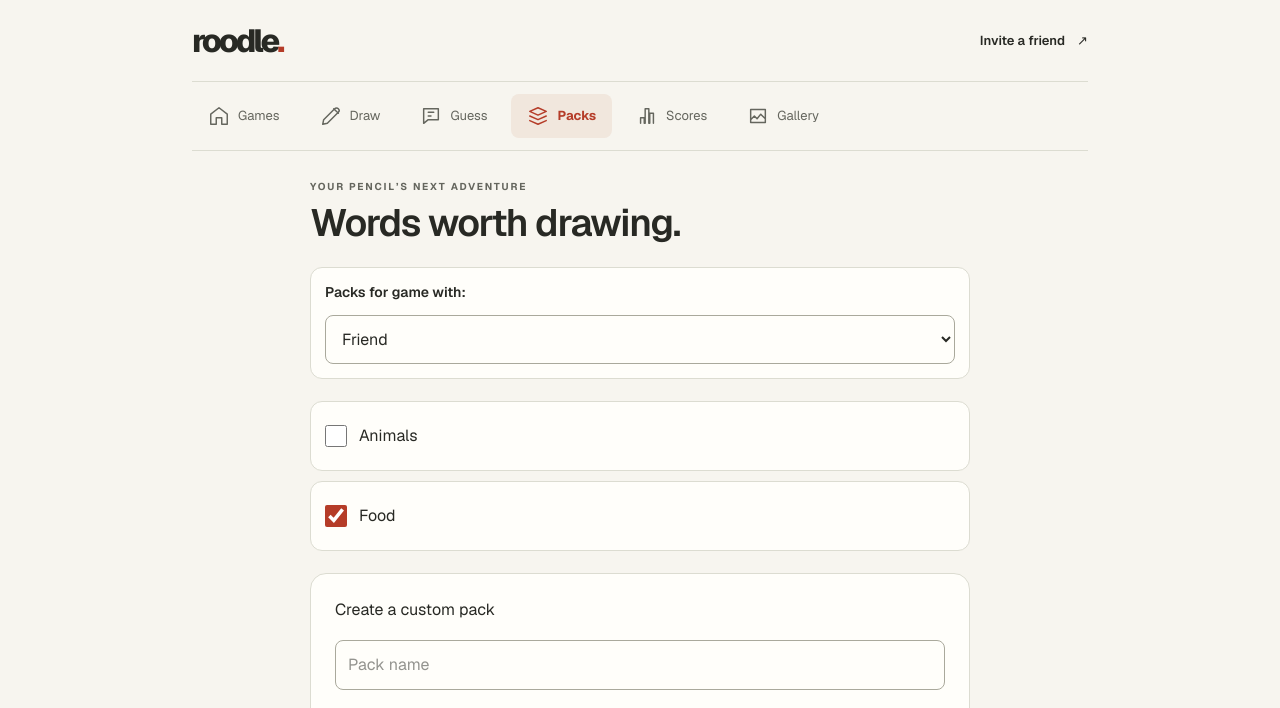
Test: PacksPage (WORD-06) › shows an error and retry when a toggle fails
Click the checkbox labelled "Animals": {"x": 336, "y": 436} [325,424,347,446]
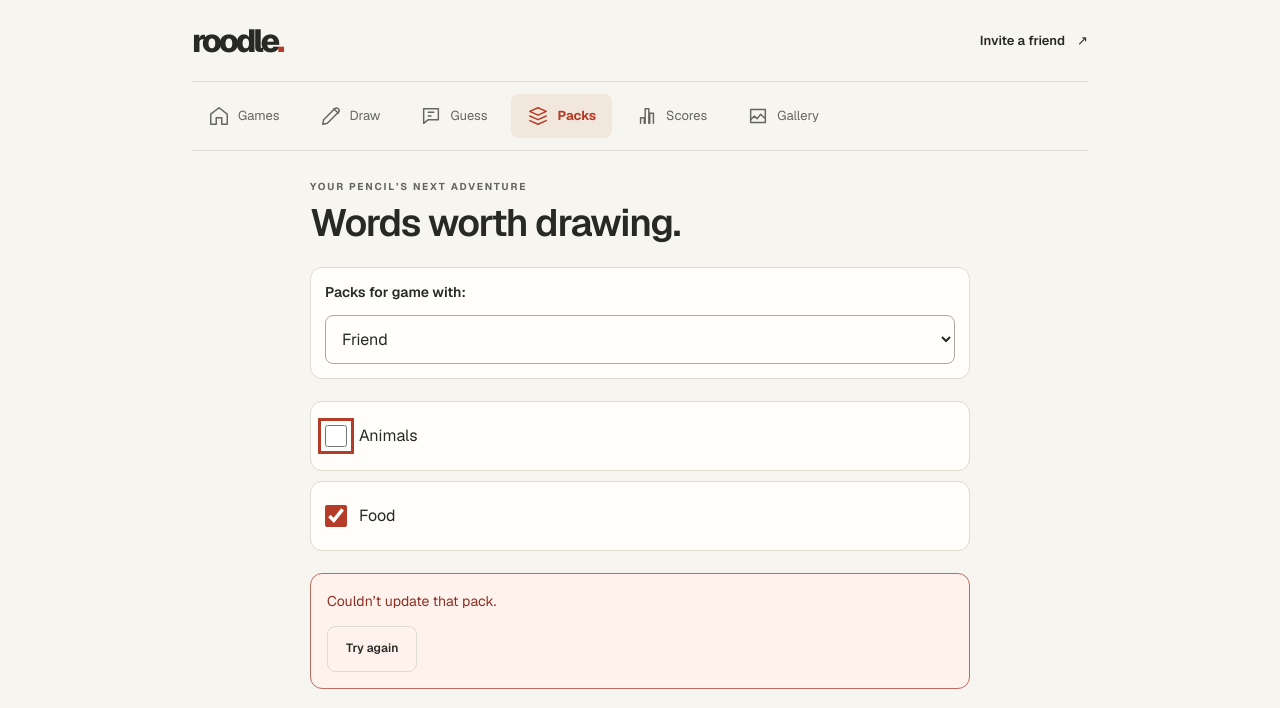
Expected: the text "Couldn’t update that pack." is shown, [327,592,496,610]
Expected: the button "Try again" is shown, [327,626,417,672]
